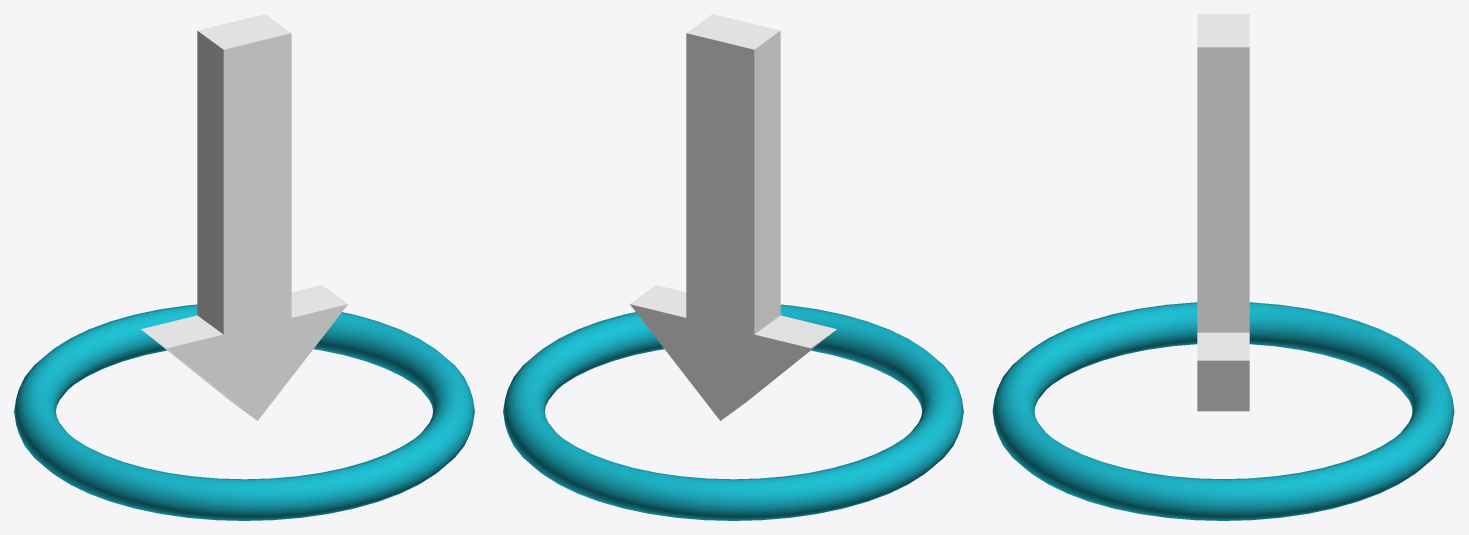
The model's file is cursor.gltf.
3 renders of one model, left to right at view 1: azimuth 30°, elevation 25°; view 2: azimuth 150°, elevation 25°; view 3: azimuth 270°, elevation 25°, orthographic.
Parts seen in each view (by area): view 1: arrow, ring; view 2: arrow, ring; view 3: ring, arrow.
Part boxes in pixels (<box>): arrow: <box>141,14,347,420</box>; ring: <box>14,304,474,520</box>; arrow: <box>630,14,836,420</box>; ring: <box>503,304,963,520</box>; ring: <box>992,302,1454,520</box>; arrow: <box>1197,14,1249,411</box>.
Bounding box in the file's own units: 0.55 × 0.525 × 0.55.
